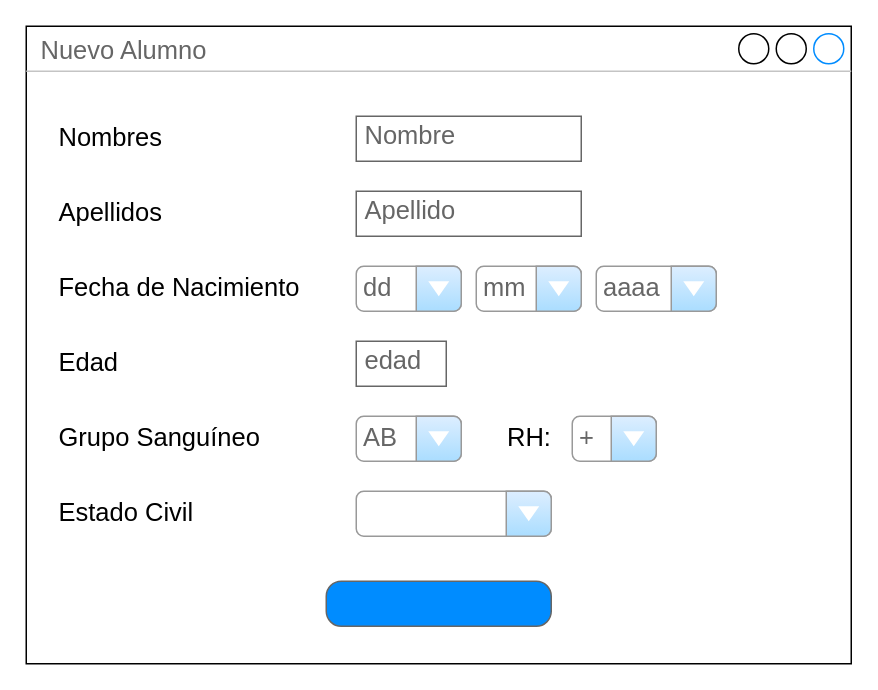
Image size: 878x690. Some labels were removed from this diagram. Here are the shapes that lost their labels. From the top down, the box of each, then its label:
(355, 490, 551, 536): unión libre
(325, 580, 551, 626): Guardar
